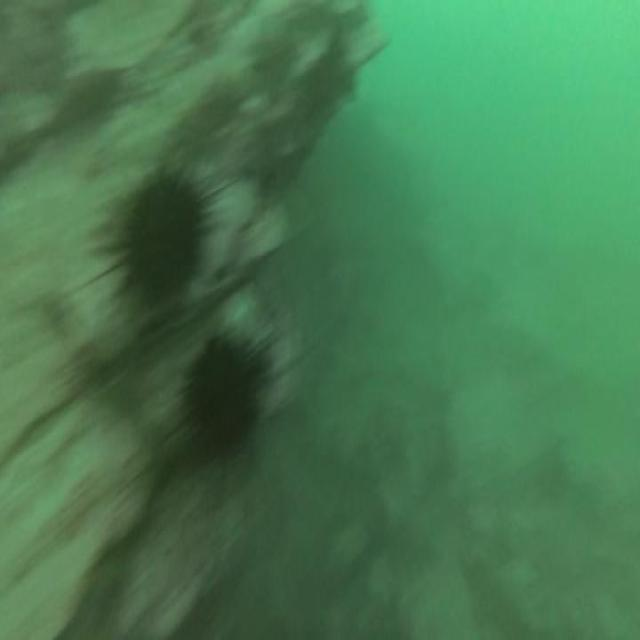echinus: (107, 165, 214, 312), (178, 324, 276, 466)
